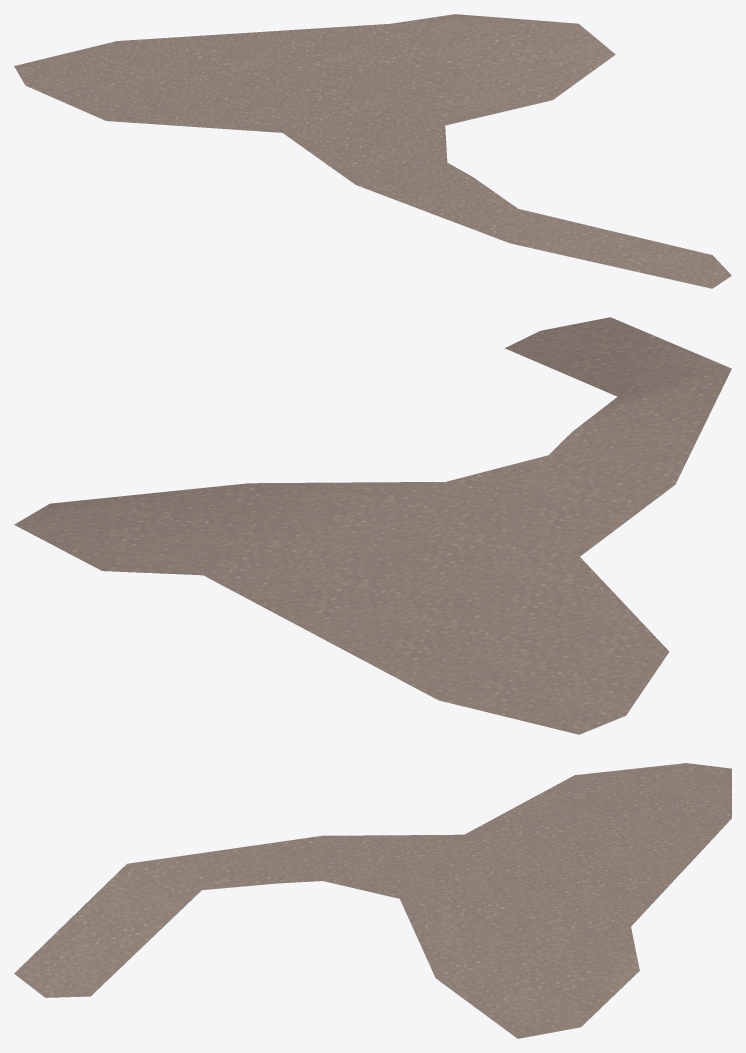
The model's file is kd_stage_1366d7_3_1_bounded.glb.
The picture shows the model from 3 angles, top to bottom: view 1: azimuth 30°, elevation 25°; view 2: azimuth 150°, elevation 25°; view 3: azimuth 270°, elevation 25°; orthographic projection. The views are drawn at different scales.
Parts seen in each view (by area): view 1: kd_stage_1366d7_3_1_bounded; view 2: kd_stage_1366d7_3_1_bounded; view 3: kd_stage_1366d7_3_1_bounded.
Boxes of the visible parts, bbox=[...] form: kd_stage_1366d7_3_1_bounded: bbox=[14, 14, 731, 288]; kd_stage_1366d7_3_1_bounded: bbox=[14, 317, 731, 734]; kd_stage_1366d7_3_1_bounded: bbox=[14, 763, 731, 1038].
Size of the model in its own units: 30.65 by 2.79 by 37.86.
Materials: 1 (1 with a texture image).
